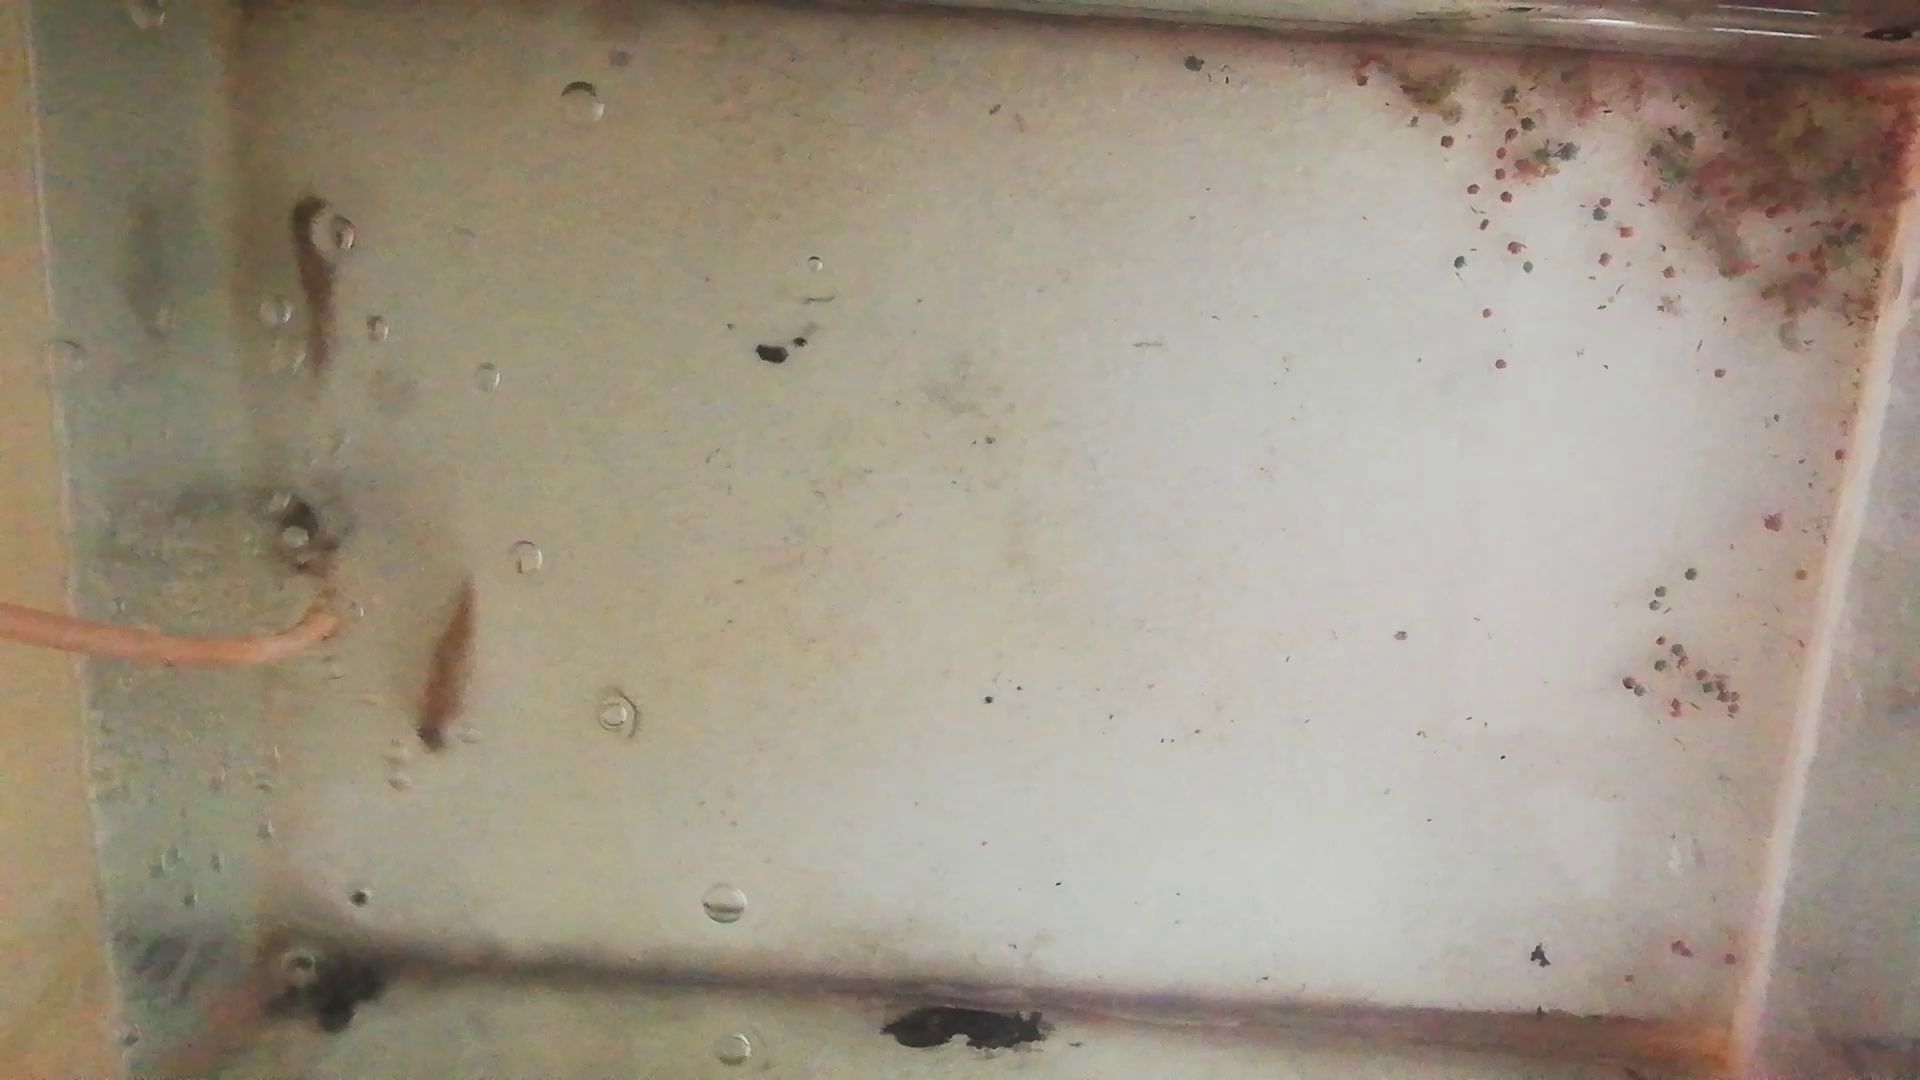fish: (407, 574, 481, 758), (284, 189, 343, 381)
